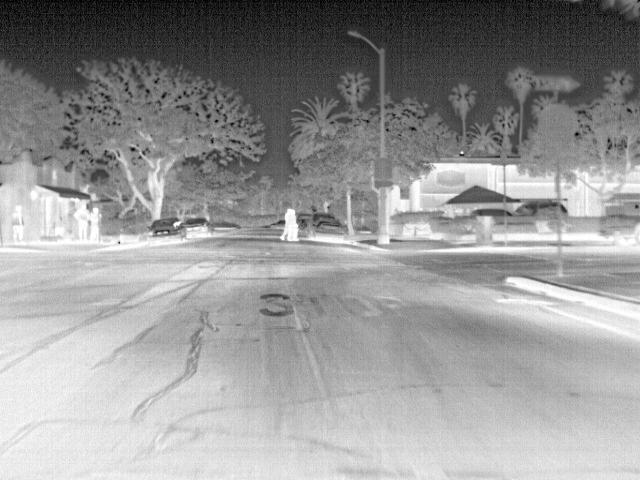car: (146, 216, 188, 244), (513, 200, 568, 216), (305, 212, 336, 237), (314, 222, 346, 243), (181, 218, 212, 237), (470, 208, 516, 220)
person: (8, 203, 26, 243), (73, 202, 91, 240), (88, 205, 103, 240), (286, 208, 301, 242), (277, 207, 292, 241)
